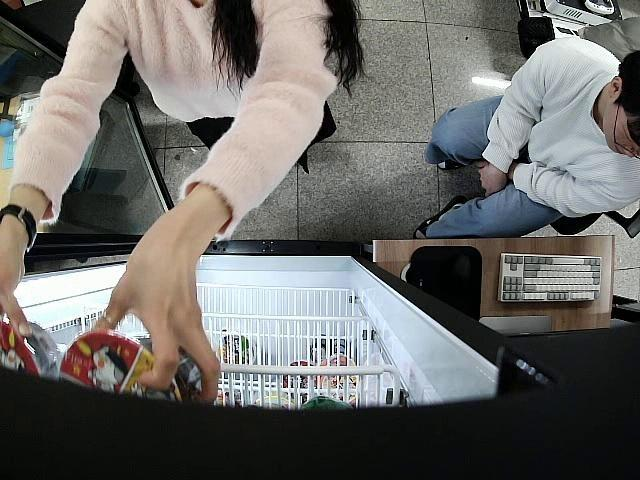07_buldak_L: (60, 327, 204, 403), (0, 317, 64, 390)
